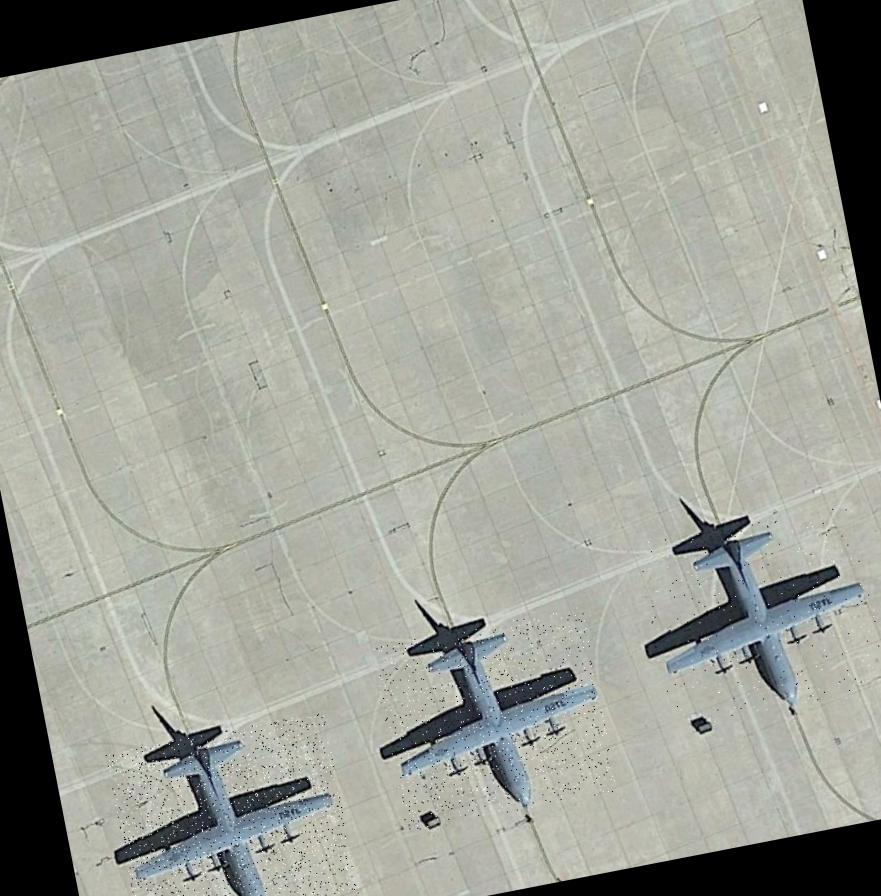A2: (635, 501, 881, 730), (371, 606, 618, 832), (105, 711, 360, 896)
